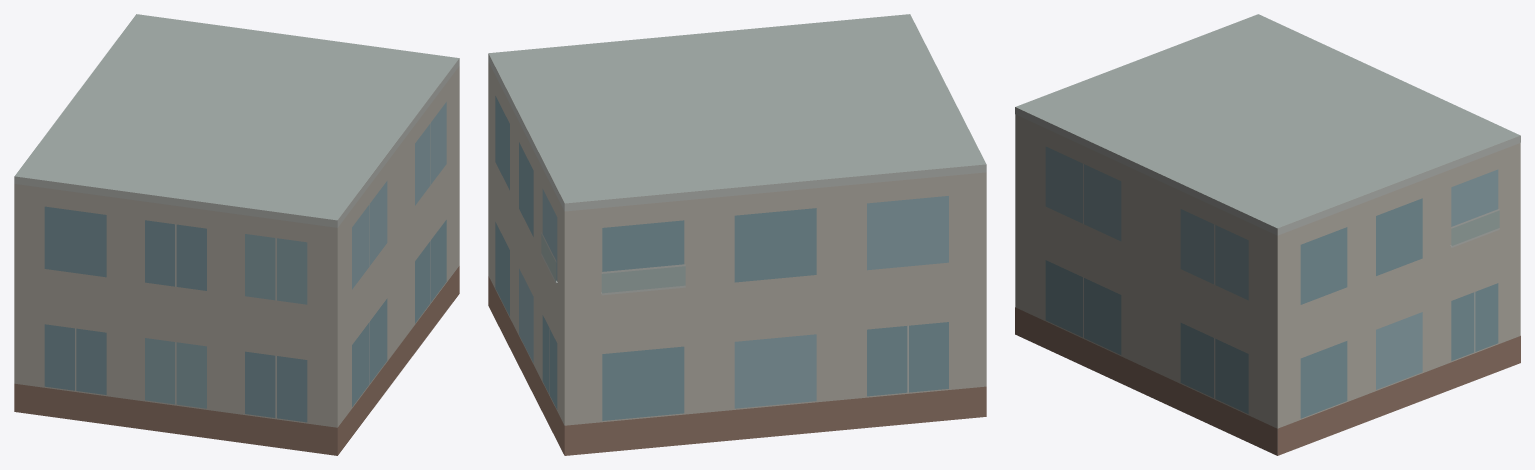
File: survey-upis-32638919.glb
3 views of the same model, side by side, from view 1: azimuth 30°, elevation 25°; view 2: azimuth 150°, elevation 25°; view 3: azimuth 270°, elevation 25° (orthographic). The views are drawn at different scales.
Parts seen in each view (by area): view 1: survey-upis-32638919.tmp; view 2: survey-upis-32638919.tmp; view 3: survey-upis-32638919.tmp.
Part boxes in pixels (left/top/right/bottom): survey-upis-32638919.tmp: left=14, top=14, right=459, bottom=455; survey-upis-32638919.tmp: left=488, top=14, right=986, bottom=455; survey-upis-32638919.tmp: left=1015, top=14, right=1520, bottom=455.
Size of the model in its own units: 15.58 by 7.7 by 15.52.
